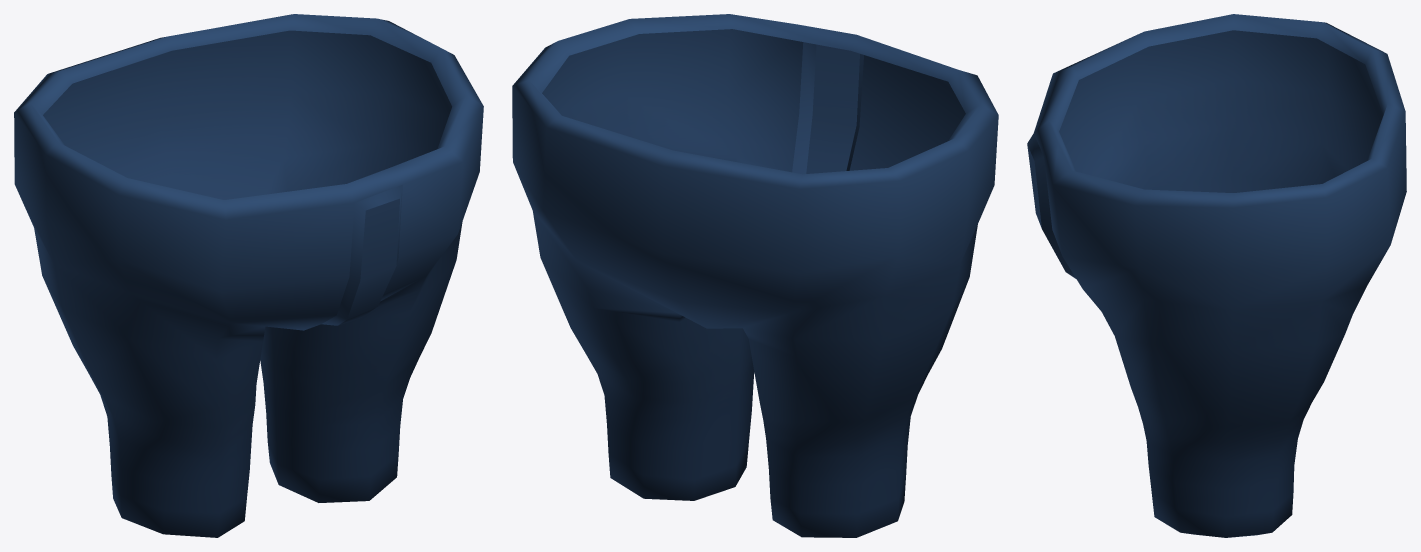
File: Bottom_03_Fat.fbx
The picture shows the model from 3 angles, left to right: view 1: azimuth 30°, elevation 25°; view 2: azimuth 150°, elevation 25°; view 3: azimuth 270°, elevation 25°; orthographic projection. The views are drawn at different scales.
Parts seen in each view (by area): view 1: Bottom_03_Fat; view 2: Bottom_03_Fat; view 3: Bottom_03_Fat.
Part boxes in pixels (left/top/right/bottom): Bottom_03_Fat: left=14, top=14, right=483, bottom=537; Bottom_03_Fat: left=512, top=14, right=998, bottom=537; Bottom_03_Fat: left=1027, top=14, right=1406, bottom=537.
Bounding box in the file's own units: 54.19 × 50.8 × 45.6.
